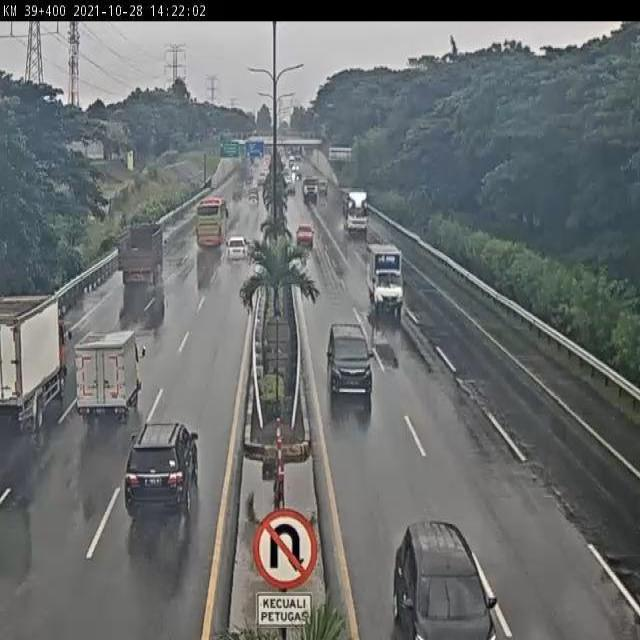ARABA: (123, 420, 201, 524), (324, 320, 373, 397), (223, 234, 253, 266), (294, 218, 314, 246)
KAMYONET: (74, 327, 144, 425), (364, 244, 408, 316)
OTOBUS: (193, 196, 229, 251)
TIR: (0, 294, 67, 434), (116, 223, 165, 289), (341, 189, 371, 239)
